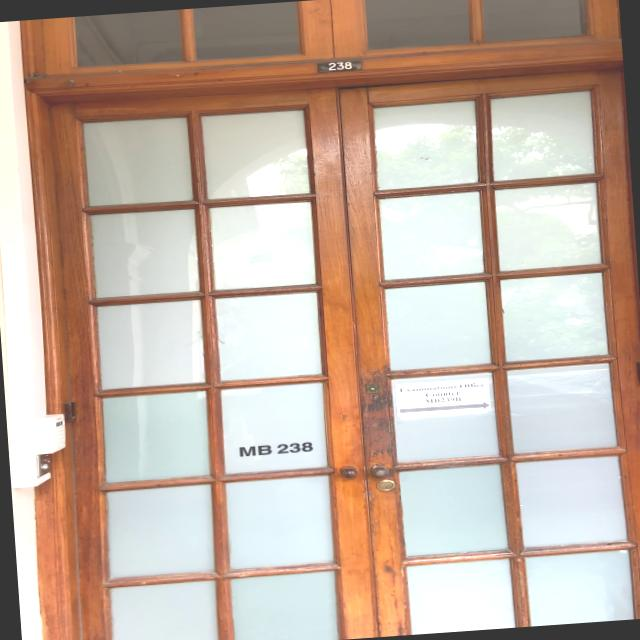room238: (316, 59, 359, 74)
